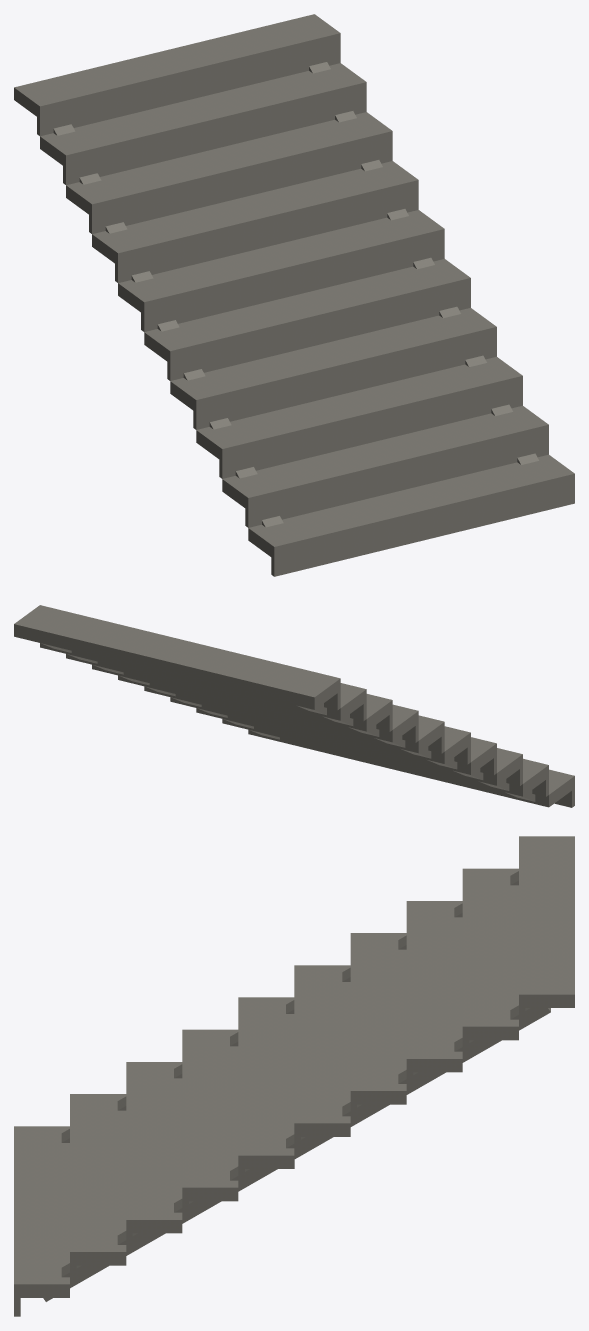
Rendered from OA_Stair_10_Steps.fbx.
The picture shows the model from 3 angles, top to bottom: view 1: azimuth 30°, elevation 25°; view 2: azimuth 150°, elevation 25°; view 3: azimuth 270°, elevation 25°; orthographic projection. The views are drawn at different scales.
Parts seen in each view (by area): view 1: OA_Stair_10_Steps; view 2: OA_Stair_10_Steps; view 3: OA_Stair_10_Steps.
Boxes of the visible parts, x1,y1,x2,y2 form: OA_Stair_10_Steps: (14,14,574,576); OA_Stair_10_Steps: (14,605,574,807); OA_Stair_10_Steps: (14,836,574,1316).
Size of the model in its own units: 2 by 1.9 by 3.
Materials: 1 (1 with a texture image).
